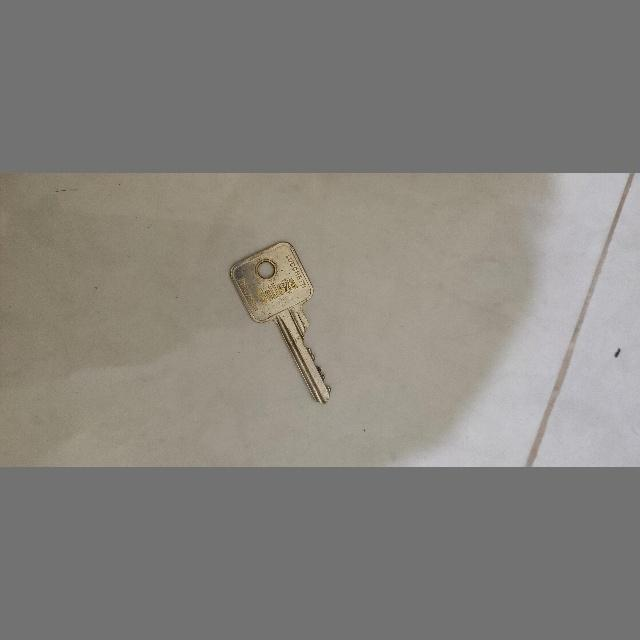Keys: (226, 243, 342, 412)
